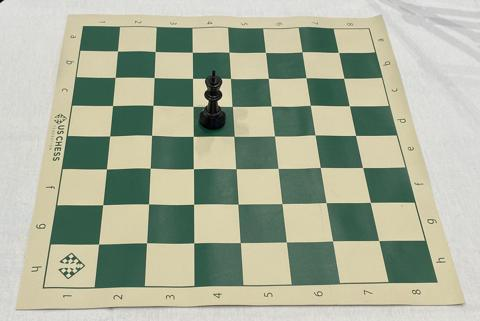xcorner: (332, 47, 343, 58), (296, 47, 307, 58), (260, 47, 271, 58), (223, 46, 234, 57), (186, 46, 197, 57), (149, 46, 160, 57), (112, 46, 123, 57), (338, 73, 349, 84), (300, 72, 311, 83), (263, 72, 274, 83), (225, 72, 236, 83), (186, 72, 197, 83), (148, 72, 159, 83), (109, 72, 120, 83), (344, 100, 355, 111), (305, 100, 316, 111), (266, 100, 277, 111), (226, 100, 237, 111), (187, 100, 198, 111), (147, 100, 158, 111), (106, 100, 117, 111), (351, 130, 362, 141), (310, 130, 321, 141), (269, 130, 280, 141), (228, 130, 239, 141), (187, 130, 198, 141), (145, 130, 156, 141), (103, 130, 114, 141), (358, 162, 369, 173), (316, 162, 327, 173), (273, 162, 284, 173), (230, 162, 241, 173), (187, 162, 198, 173), (144, 163, 155, 174), (100, 163, 111, 174), (366, 197, 377, 208), (322, 197, 333, 208), (233, 198, 244, 209), (188, 198, 199, 209), (142, 198, 153, 209), (96, 199, 107, 210), (374, 235, 385, 246), (328, 236, 339, 247), (282, 236, 293, 247), (235, 236, 246, 247), (188, 237, 199, 248), (140, 237, 151, 248), (92, 238, 103, 249), (277, 198, 288, 208)
